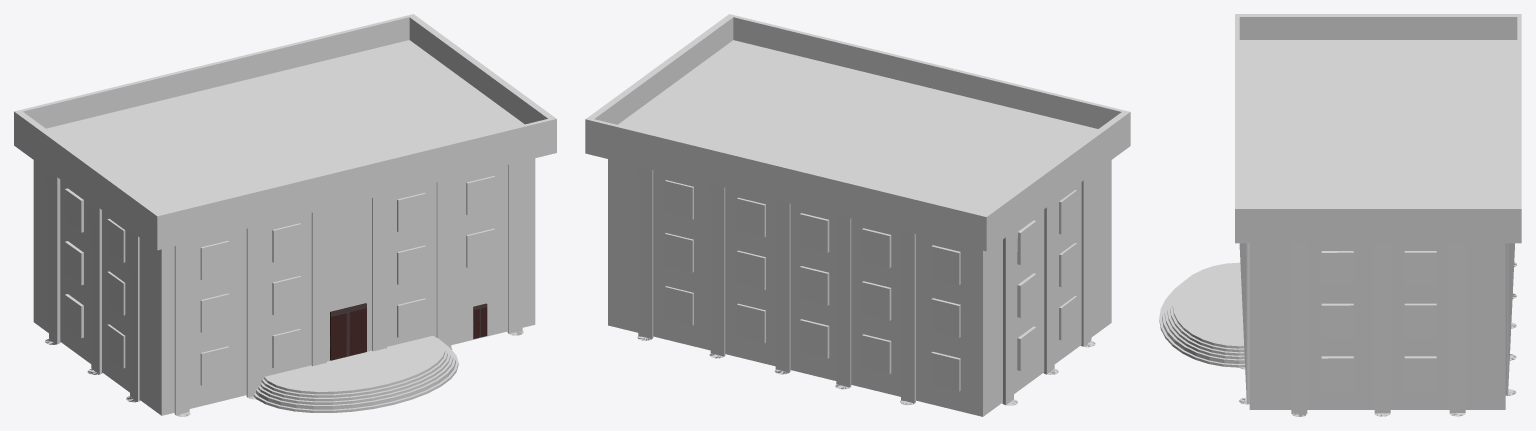
File: UnfinishedMansion2.fbx
3 renders of one model, left to right at view 1: azimuth 30°, elevation 25°; view 2: azimuth 150°, elevation 25°; view 3: azimuth 270°, elevation 25°, orthographic.
Parts seen in each view (by area): view 1: Roof, Building, TallColumn.005, Window.038, FrontDoor, MansionSideDoor; view 2: Roof, Building, TallColumn.005, Window.038; view 3: Roof, Building, TallColumn.005, Window.038.
Part boxes in pixels (<box>): Roof: <box>14,14,556,250</box>; Building: <box>33,158,535,415</box>; TallColumn.005: <box>45,161,523,416</box>; Window.038: <box>64,176,495,385</box>; FrontDoor: <box>330,303,366,360</box>; MansionSideDoor: <box>473,303,487,338</box>; Roof: <box>585,14,1130,251</box>; Building: <box>608,159,1111,416</box>; TallColumn.005: <box>637,166,1095,405</box>; Window.038: <box>665,180,1076,391</box>; Roof: <box>1235,14,1521,243</box>; Building: <box>1249,243,1505,409</box>; TallColumn.005: <box>1159,243,1516,416</box>; Window.038: <box>1321,251,1436,390</box>.
Bounding box in the file's own units: 4520 × 5756 × 2880.
